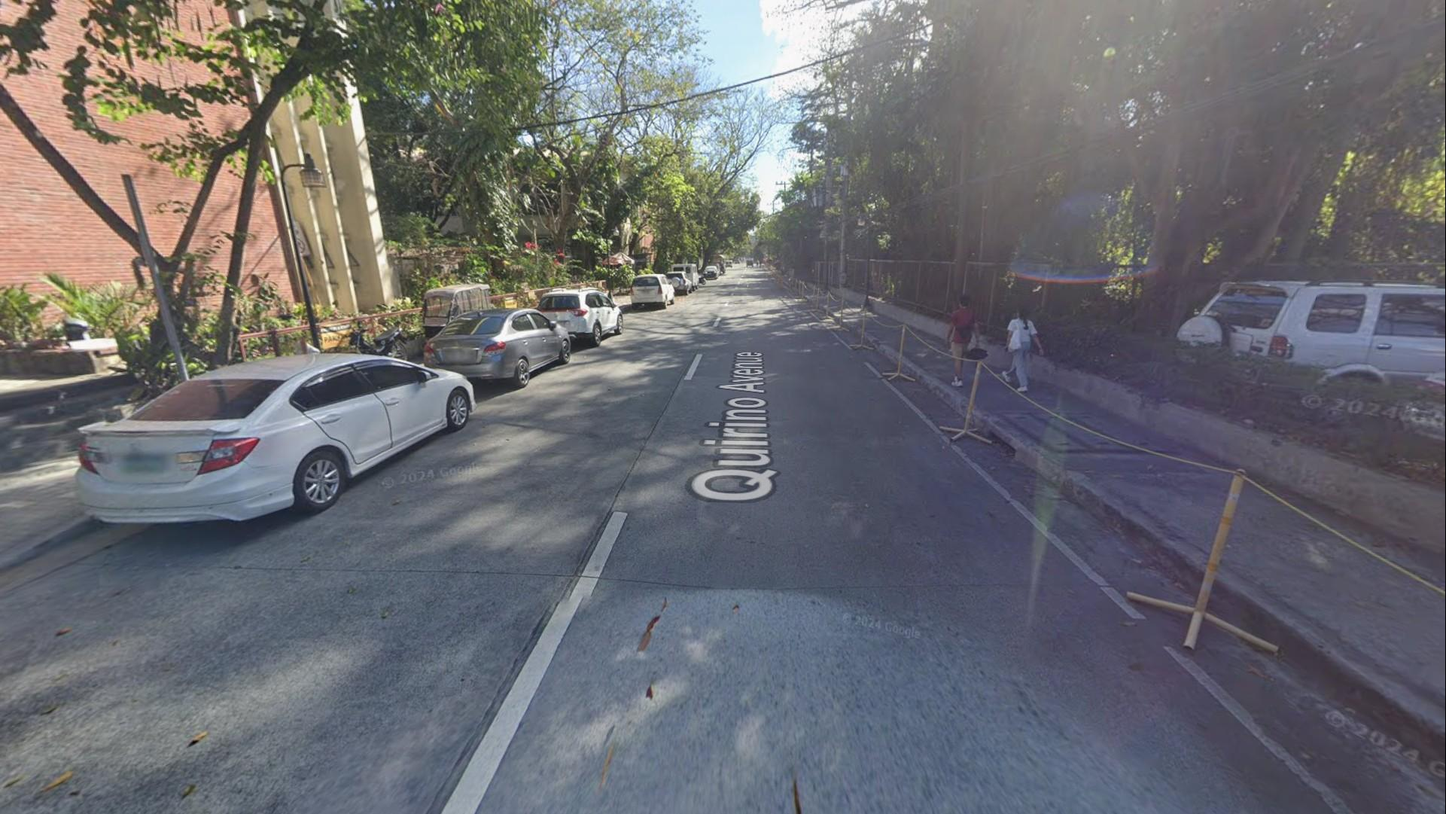pedestrian: (1002, 305, 1047, 396), (944, 292, 982, 388), (759, 258, 762, 269), (756, 258, 759, 267)
